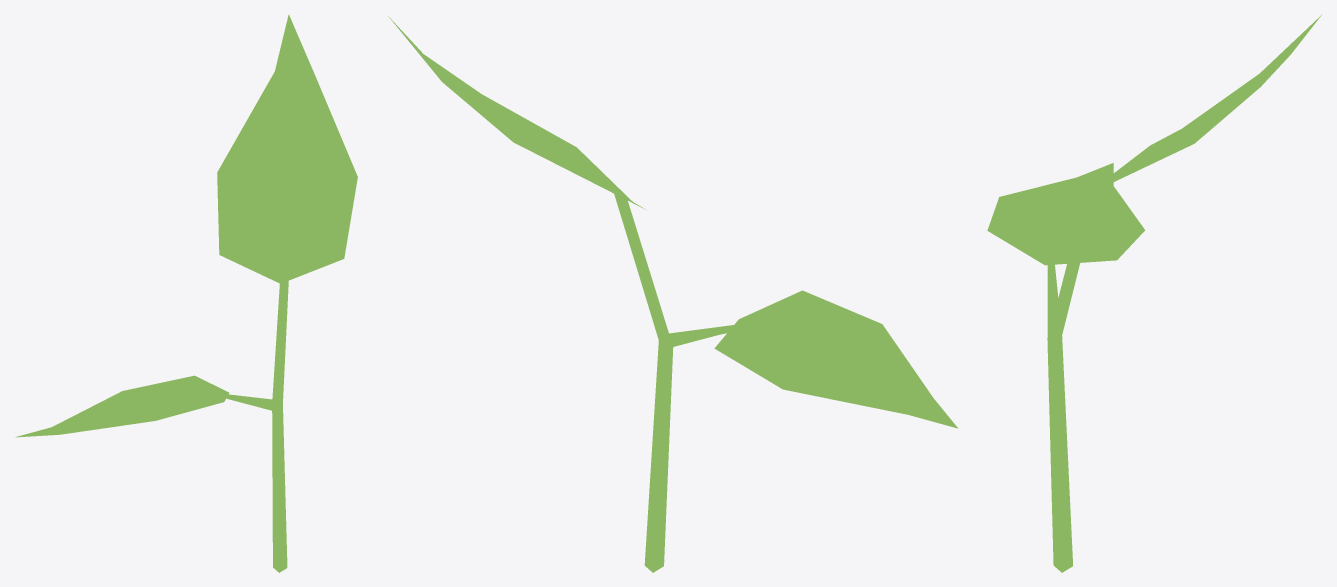
File: Plant_f_OneS_04.fbx
The picture shows the model from 3 angles, left to right: view 1: azimuth 30°, elevation 25°; view 2: azimuth 150°, elevation 25°; view 3: azimuth 270°, elevation 25°; orthographic projection. The views are drawn at different scales.
Visible parts, largest first — view 1: Plant_f_OneS_04; view 2: Plant_f_OneS_04; view 3: Plant_f_OneS_04.
Part boxes in pixels (left/top/right/bottom): Plant_f_OneS_04: left=15, top=14, right=357, bottom=572; Plant_f_OneS_04: left=388, top=16, right=957, bottom=572; Plant_f_OneS_04: left=987, top=14, right=1322, bottom=572.
Size of the model in its own units: 0.5352 by 0.6643 by 0.3238.
